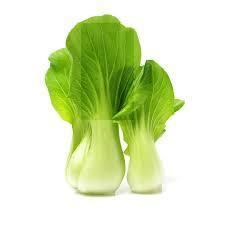Healthy-Pechay: (33, 5, 186, 200)
